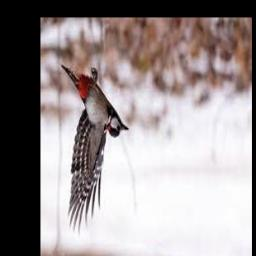Woodpecker: (61, 63, 129, 236)
